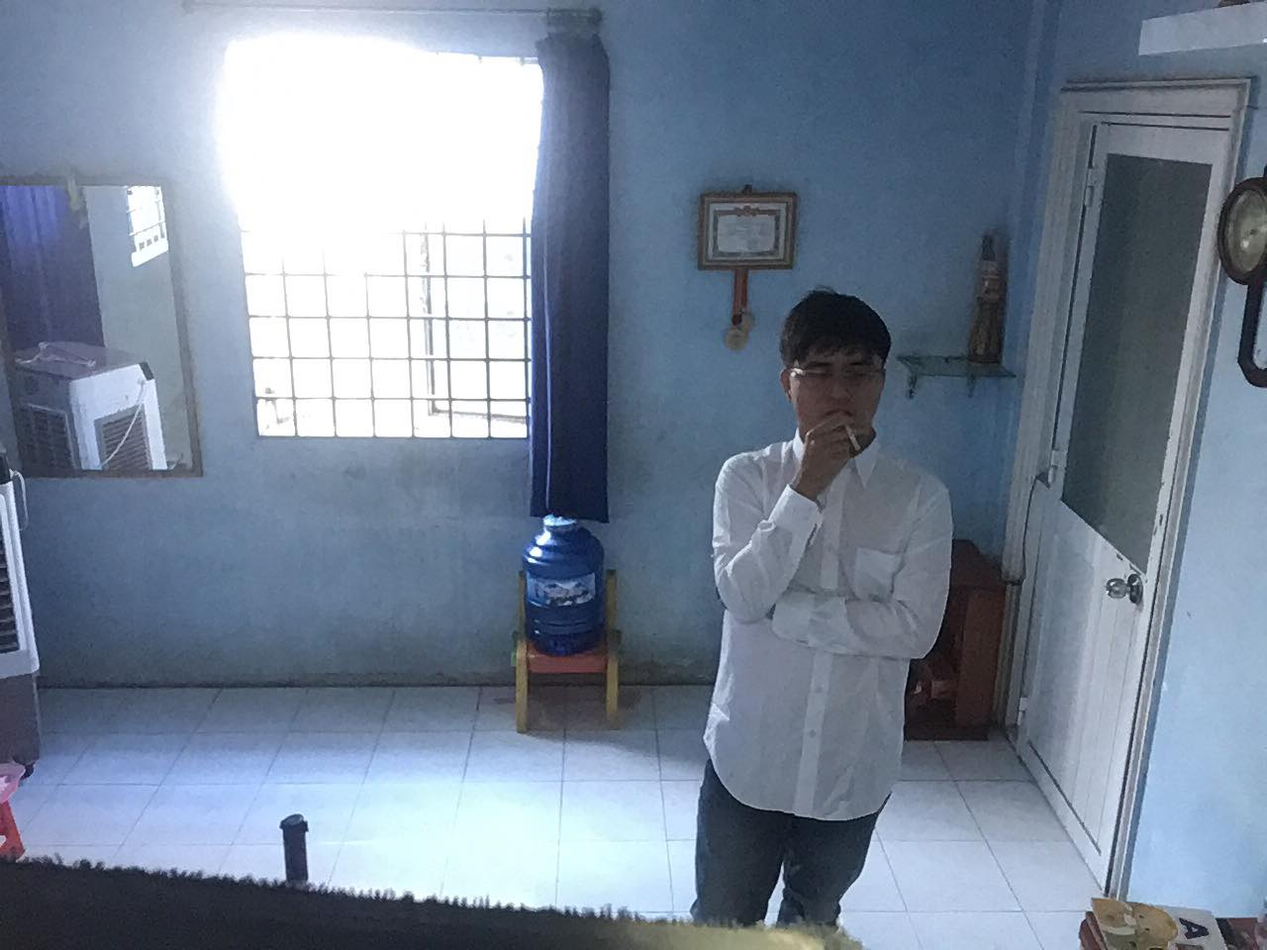cigarette: (837, 413, 865, 455)
person: (706, 261, 996, 950)
